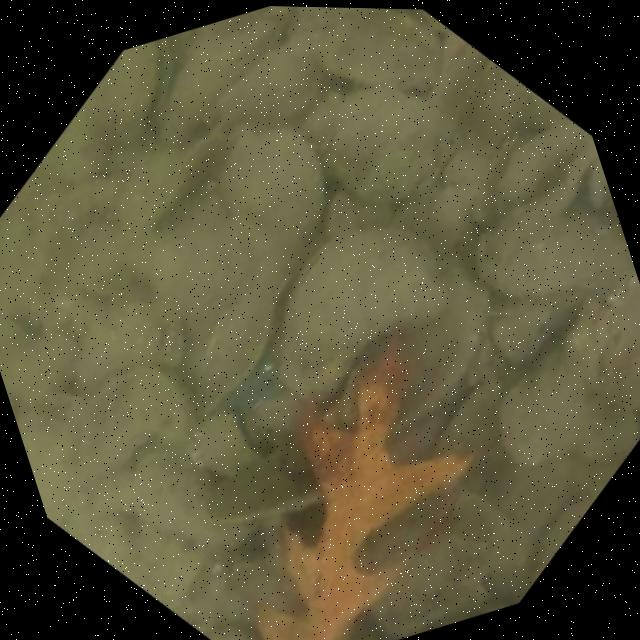Oyster-Closed: (160, 19, 287, 144), (481, 203, 624, 301), (214, 26, 321, 131)
Oyster-Indeterminate: (344, 289, 481, 439), (288, 233, 449, 354), (301, 88, 433, 206), (126, 444, 260, 546), (219, 131, 324, 248), (500, 348, 589, 468), (319, 8, 439, 87), (16, 415, 81, 525), (0, 325, 75, 402), (46, 108, 111, 183)
Oyster-Open: (93, 38, 172, 149), (506, 124, 598, 208)
